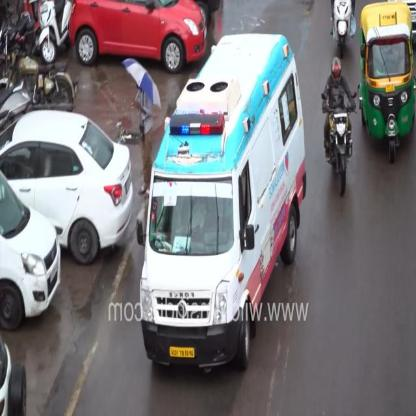auto-rikshaw: (358, 0, 416, 164), (331, 0, 357, 58)
bike: (322, 91, 358, 197)
car: (2, 108, 134, 266), (68, 0, 208, 74), (2, 168, 63, 332)
priority: (136, 31, 308, 374)
